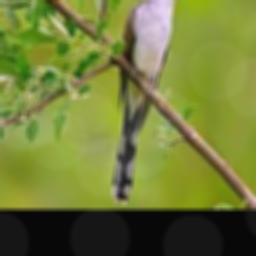Cuckoo: (110, 0, 195, 203)
